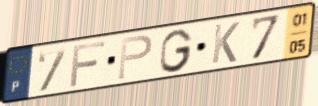7: (249, 12, 283, 63), (36, 45, 69, 94)
F: (68, 39, 108, 89)
G: (158, 27, 195, 74)
K: (209, 20, 242, 66)
P: (116, 33, 155, 82)
